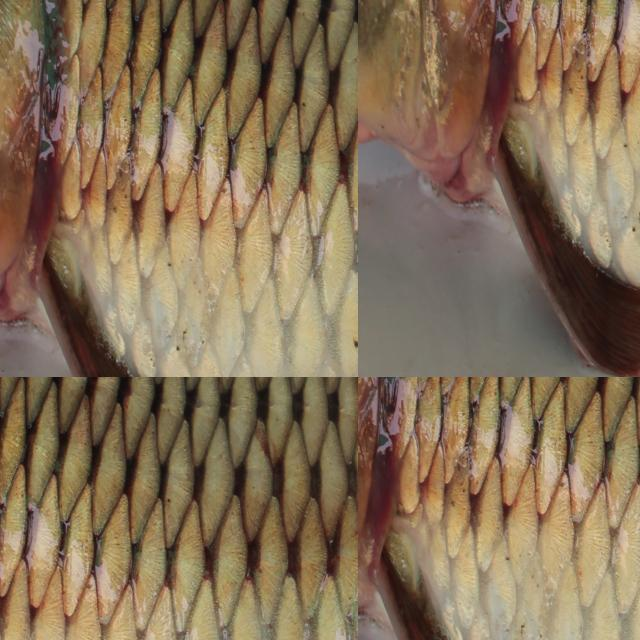fish: (358, 377, 640, 640)
